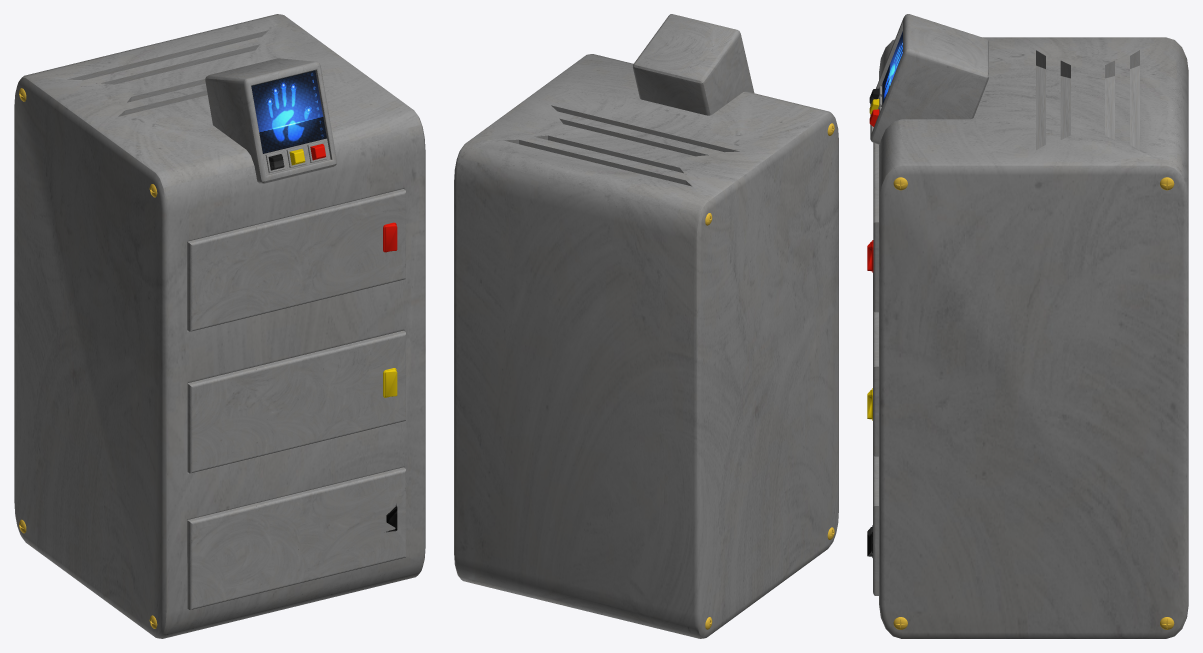
Rendered from desk 1.fbx.
3 renders of one model, left to right at view 1: azimuth 30°, elevation 25°; view 2: azimuth 150°, elevation 25°; view 3: azimuth 270°, elevation 25°, orthographic. The views are drawn at different scales.
Visible parts, largest first — view 1: Cube.009, Cube.016, Cube.011, Cube.015; view 2: Cube.009; view 3: Cube.009, Cube.015, Cube.016, Cube.011.
Boxes of the visible parts, x1,y1,x2,y2 form: Cube.009: (14,14,425,638); Cube.016: (187,330,405,473); Cube.011: (187,467,405,609); Cube.015: (187,189,405,331); Cube.009: (454,14,838,638); Cube.009: (870,14,1188,638); Cube.015: (867,143,878,312); Cube.016: (867,273,878,456); Cube.011: (867,453,878,595).
Bounding box in the file's own units: 203 × 388 × 208.
Materials: 6 (2 with a texture image).
